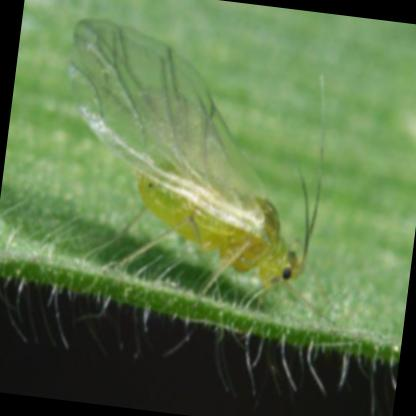schizaphis graminum: (66, 20, 309, 290)
